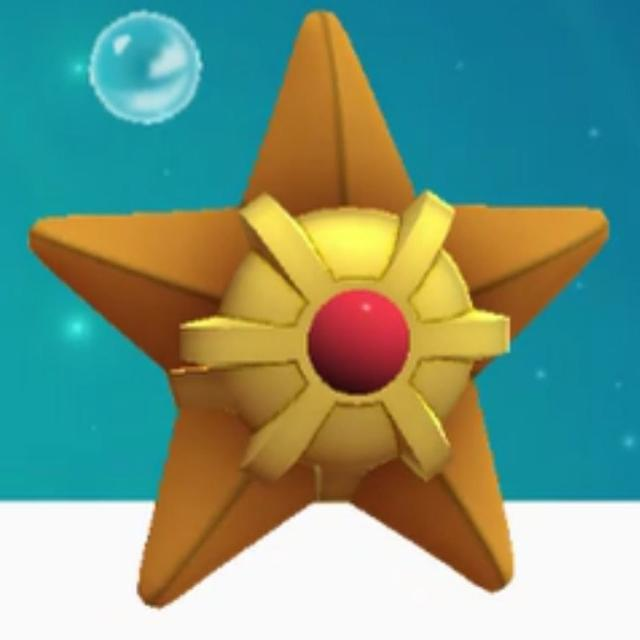Staryu: (50, 21, 600, 595)
